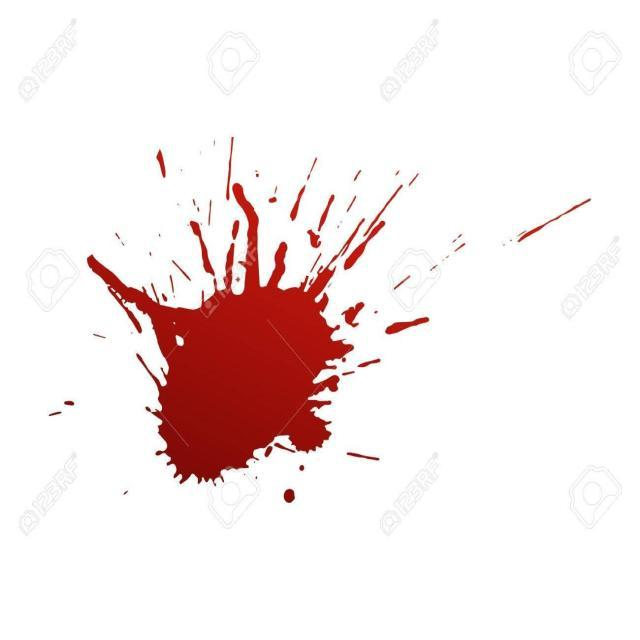flood: (66, 79, 599, 509)
